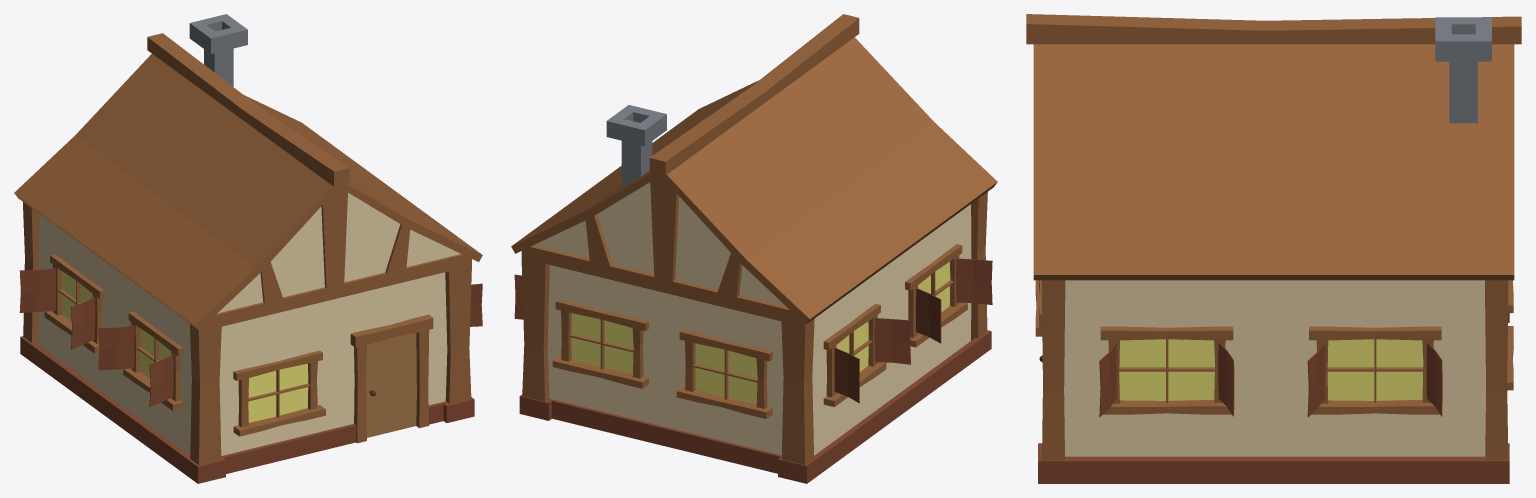
File: House_01.fbx
The picture shows the model from 3 angles, left to right: view 1: azimuth 30°, elevation 25°; view 2: azimuth 150°, elevation 25°; view 3: azimuth 270°, elevation 25°; orthographic projection. The views are drawn at different scales.
Visible parts, largest first — view 1: House_01; view 2: House_01; view 3: House_01.
Boxes of the visible parts, box(x1,y1,x2,y2) form: House_01: box(14, 14, 482, 483); House_01: box(511, 14, 997, 483); House_01: box(1026, 14, 1521, 483).
Bounding box in the file's own units: 746 × 632 × 723.
